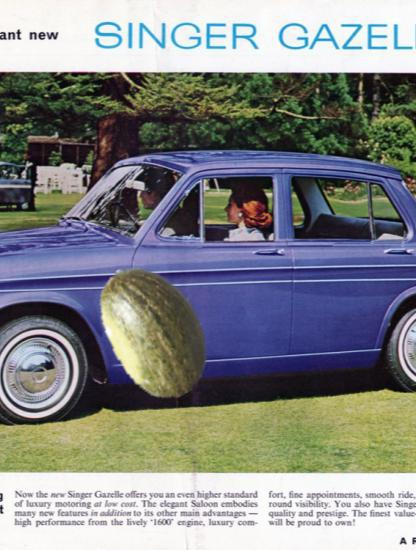Melon: (84, 260, 225, 401)
